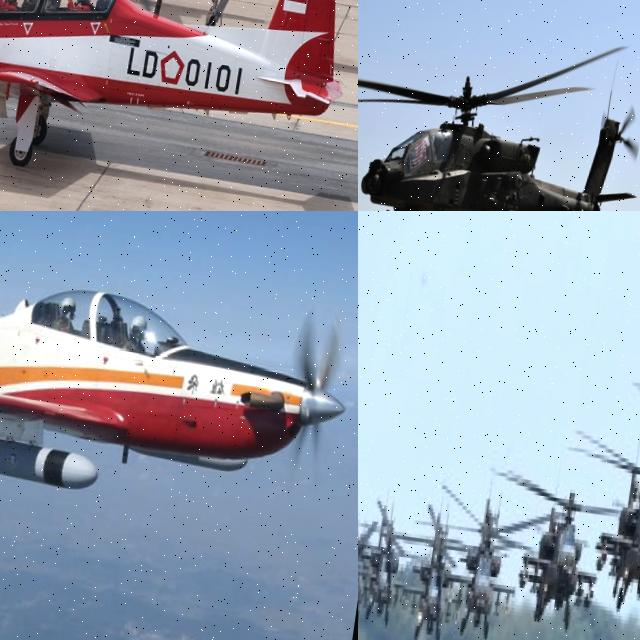Apache: (358, 6, 640, 211), (409, 466, 546, 640), (488, 463, 615, 640), (555, 424, 640, 632), (358, 490, 432, 621), (358, 505, 380, 625)
KT-1: (0, 211, 358, 529), (0, 0, 358, 208)
